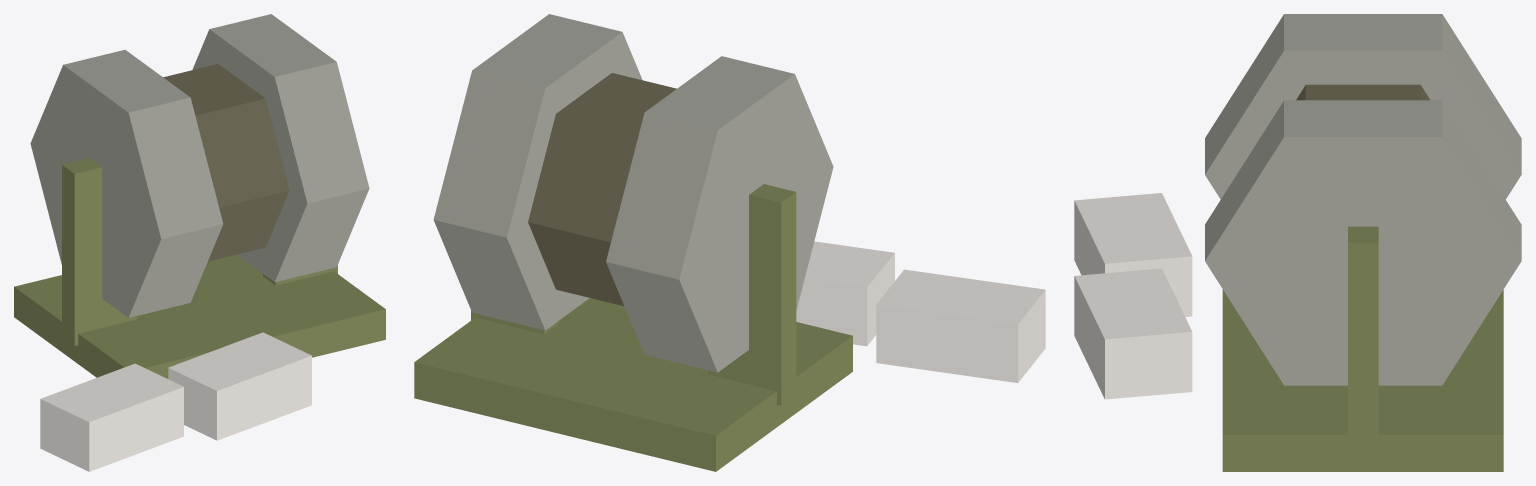
The model's file is SM_Carrete_v0_Patin_LOD1.fbx.
The picture shows the model from 3 angles, left to right: view 1: azimuth 30°, elevation 25°; view 2: azimuth 150°, elevation 25°; view 3: azimuth 270°, elevation 25°; orthographic projection. The views are drawn at different scales.
Parts seen in each view (by area): view 1: SM_farp_betera_v10_LOD1; view 2: SM_farp_betera_v10_LOD1; view 3: SM_farp_betera_v10_LOD1.
Boxes of the visible parts, box(x1,y1,x2,y2) form: SM_farp_betera_v10_LOD1: box(14, 14, 385, 471); SM_farp_betera_v10_LOD1: box(414, 14, 1045, 471); SM_farp_betera_v10_LOD1: box(1074, 14, 1521, 471).
Size of the model in its own units: 2.05 by 1.39 by 1.75.
